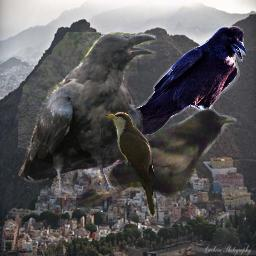Crow: (18, 32, 157, 198), (76, 107, 237, 207), (119, 26, 246, 135)
Cuckoo: (105, 111, 158, 218)
